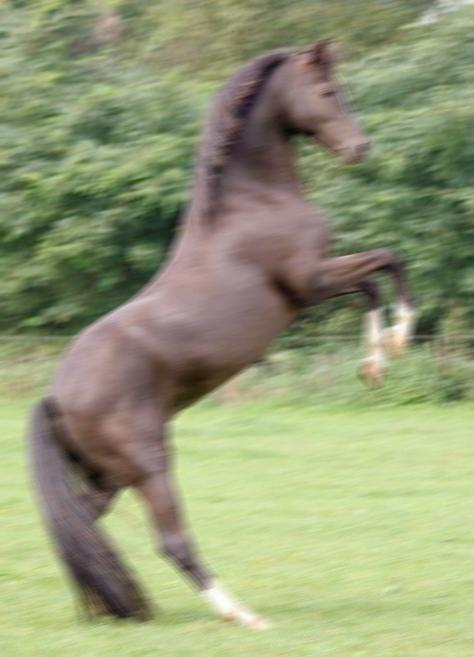horse: (24, 34, 418, 631)
